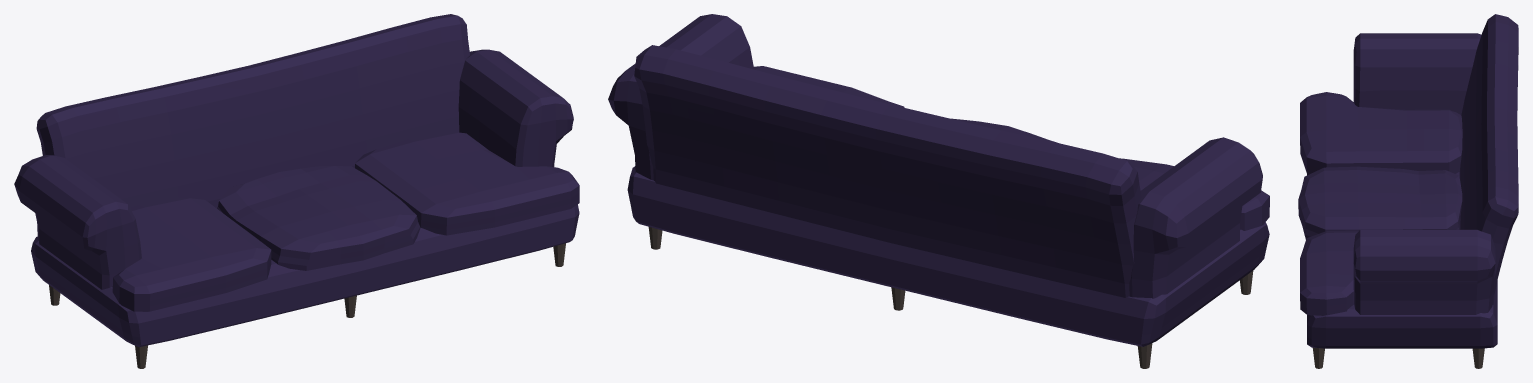
The model's file is Sofa.glb.
The picture shows the model from 3 angles, left to right: view 1: azimuth 30°, elevation 25°; view 2: azimuth 150°, elevation 25°; view 3: azimuth 270°, elevation 25°; orthographic projection. The views are drawn at different scales.
Visible parts, largest first — view 1: Sofa; view 2: Sofa; view 3: Sofa.
Boxes of the visible parts, box(x1,y1,x2,y2) form: Sofa: box(14, 14, 579, 368); Sofa: box(608, 14, 1269, 368); Sofa: box(1298, 14, 1518, 368).
Bounding box in the file's own units: 4.24 × 1.51 × 1.78.
